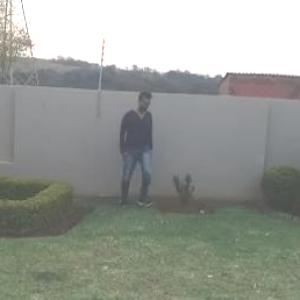follow: (117, 87, 154, 210)
